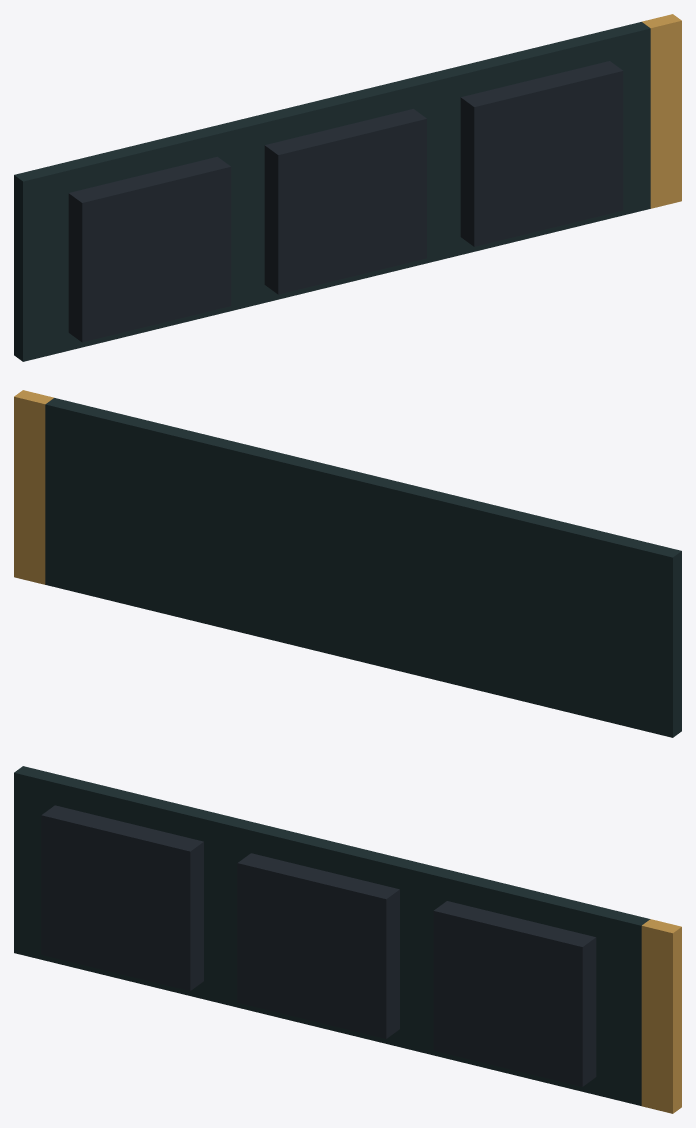
Rendered from storage.glb.
The picture shows the model from 3 angles, top to bottom: view 1: azimuth 30°, elevation 25°; view 2: azimuth 150°, elevation 25°; view 3: azimuth 330°, elevation 25°; orthographic projection.
Parts seen in each view (by area): view 1: NAND, M2 PCB, Contacts; view 2: M2 PCB, Contacts; view 3: NAND, M2 PCB, Contacts.
Part boxes in pixels (bbox=[...]): NAND: bbox=[68, 61, 623, 342]; M2 PCB: bbox=[14, 22, 650, 361]; Contacts: bbox=[642, 14, 681, 208]; M2 PCB: bbox=[45, 398, 681, 737]; Contacts: bbox=[14, 390, 53, 584]; NAND: bbox=[41, 805, 596, 1086]; M2 PCB: bbox=[14, 766, 650, 1105]; Contacts: bbox=[641, 919, 681, 1113].
Bounding box in the file's own units: 0.084 × 0.022 × 0.00551.
